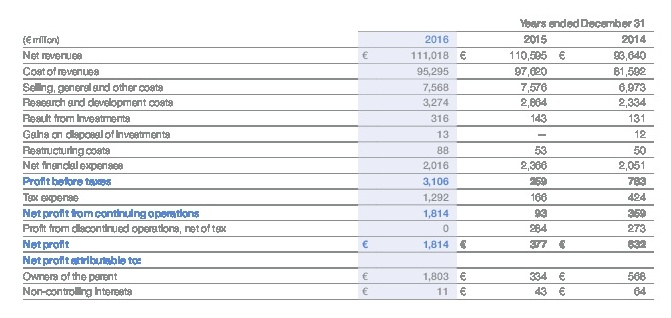table: (0, 0, 671, 318)
